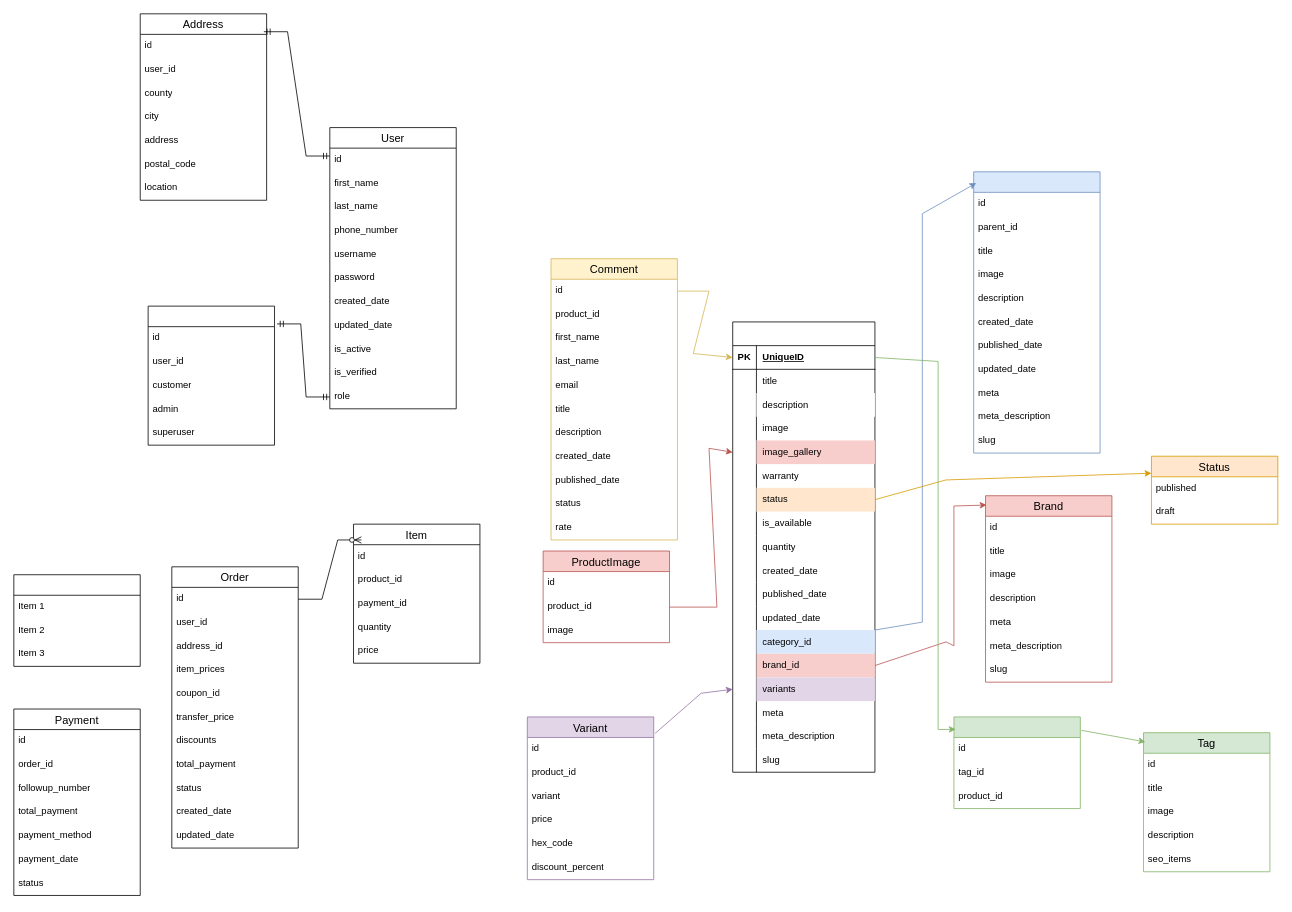
Some shapes in this 1292 by 912 pixel diagram are drawn without their labels. The shapes that lost their labels are listed below. From the top down, each one's box as (x1, y1, x2, y2) in pixels, then its label:
(973, 171, 1100, 453): Category
(147, 305, 275, 445): UserRole
(732, 321, 875, 772): Product
(13, 574, 140, 666): Coupon
(953, 716, 1080, 809): ProductTag
